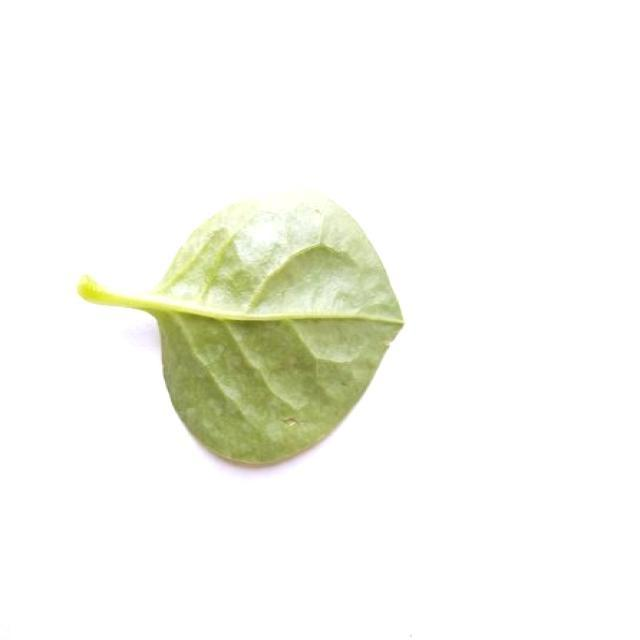leaf: (76, 188, 404, 468)
